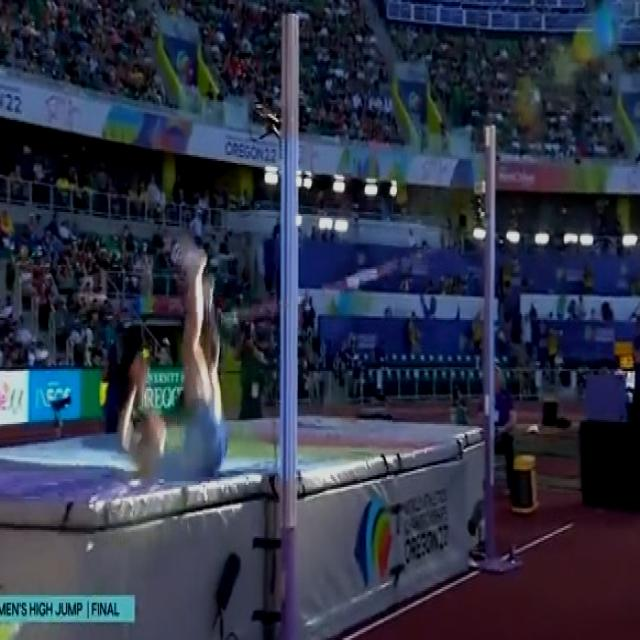land: (119, 232, 229, 474)
